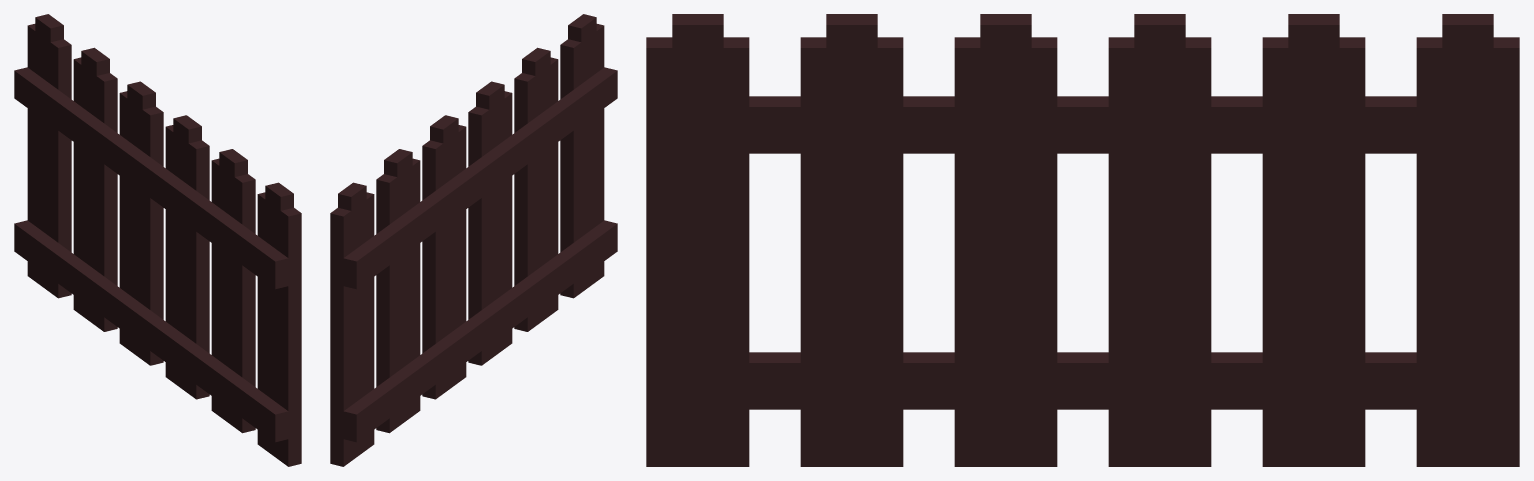
The model's file is WoodFence.obj.
The picture shows the model from 3 angles, left to right: view 1: azimuth 30°, elevation 25°; view 2: azimuth 150°, elevation 25°; view 3: azimuth 270°, elevation 25°; orthographic projection. The views are drawn at different scales.
Size of the model in its own units: 0.2 by 1.9 by 3.4.
1 material, 1 textured.
